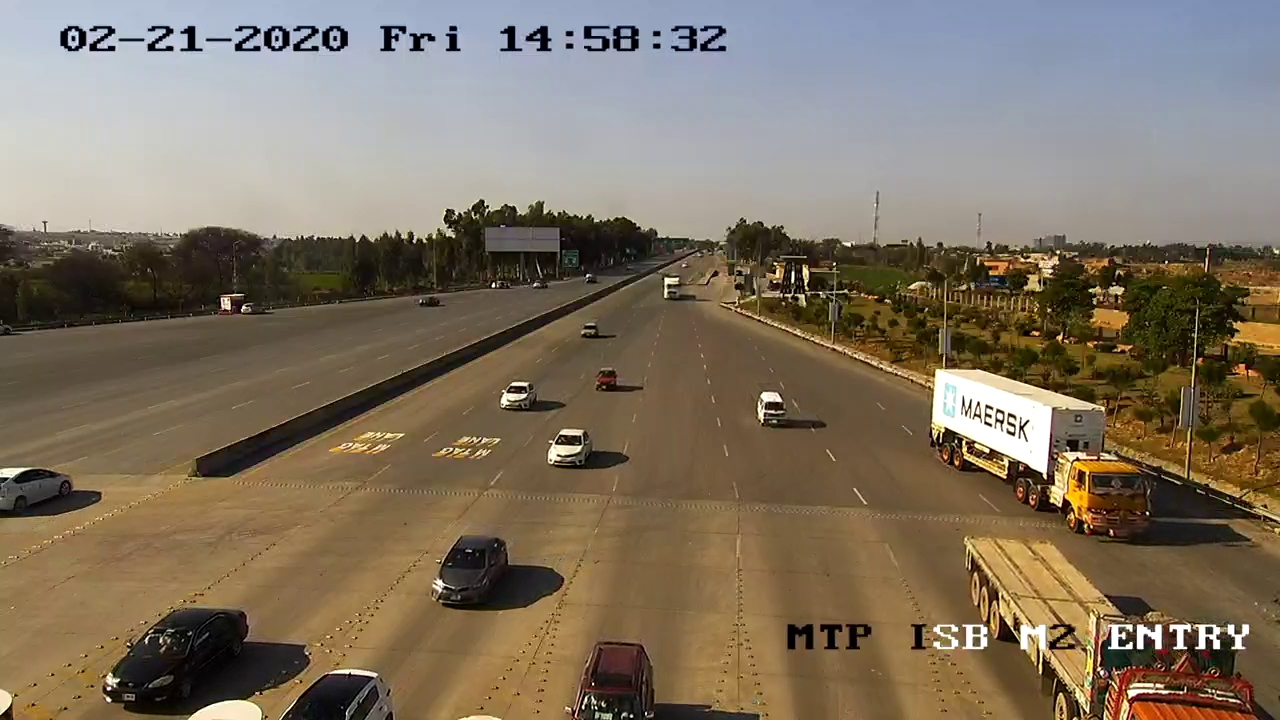f1: (91, 586, 257, 715), (551, 632, 672, 720), (419, 529, 522, 616), (539, 418, 600, 478), (743, 380, 797, 441), (485, 374, 545, 421), (588, 361, 625, 404)
f6: (911, 360, 1179, 544)
